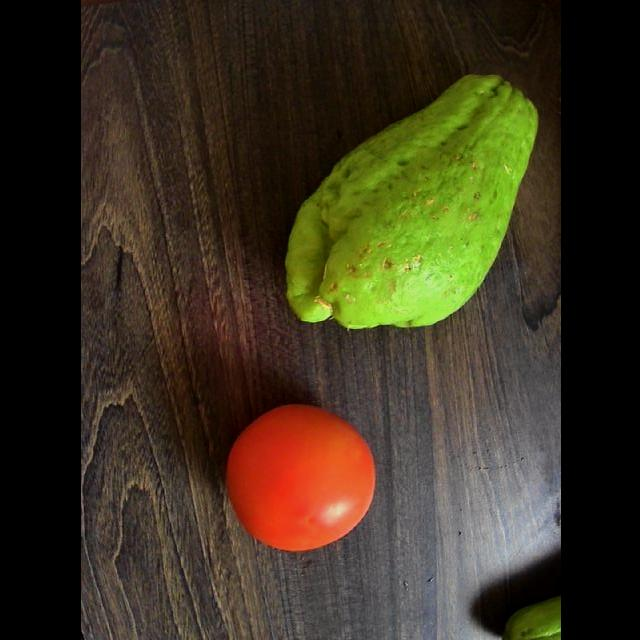chayote: (285, 75, 537, 328), (503, 596, 560, 639)
tomate: (226, 405, 374, 551)
